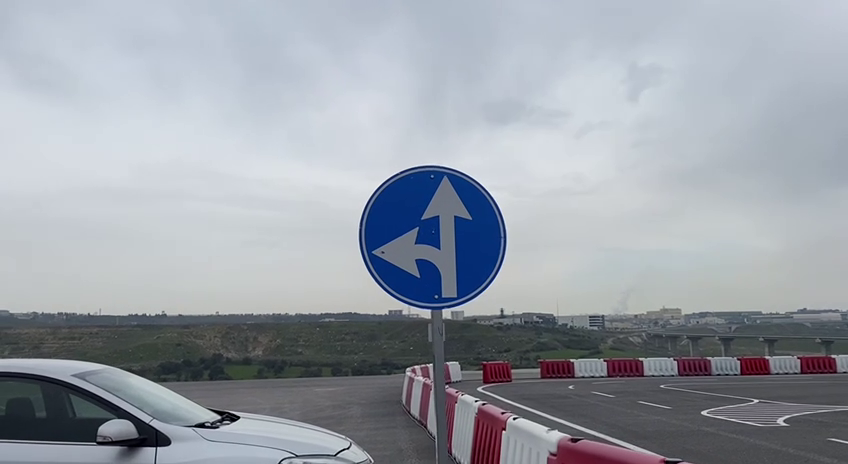forwardAndLeft: (355, 162, 510, 312)
